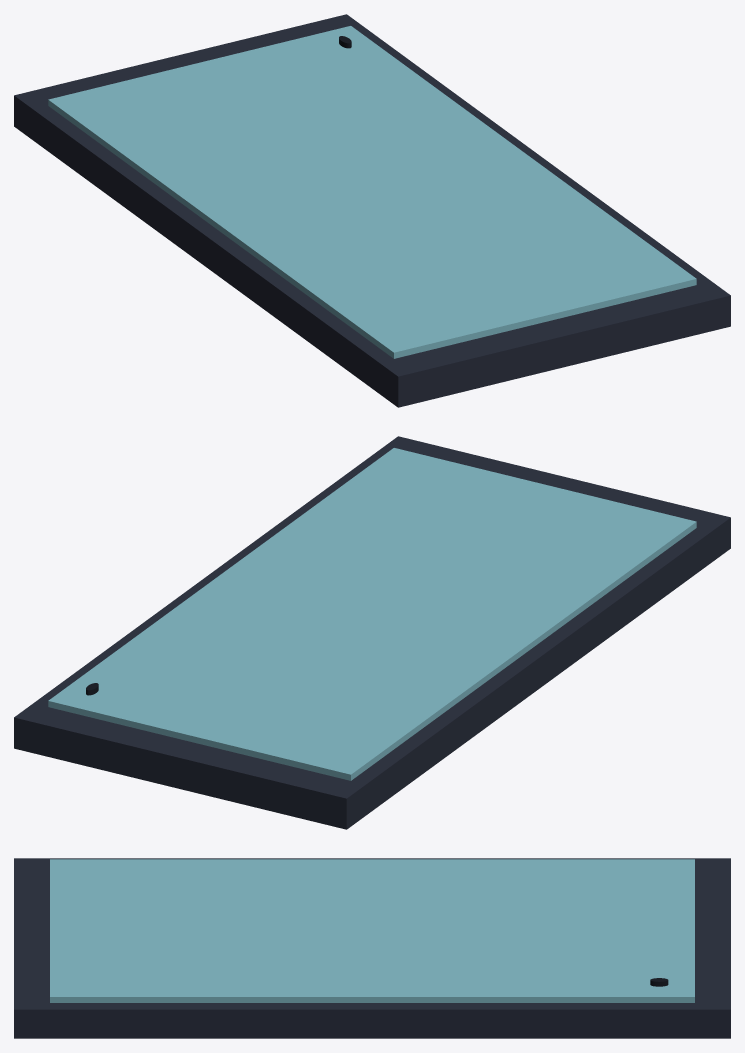
File: phone.glb
3 renders of one model, top to bottom at view 1: azimuth 30°, elevation 25°; view 2: azimuth 150°, elevation 25°; view 3: azimuth 270°, elevation 25°, orthographic. The views are drawn at different scales.
Visible parts, largest first — view 1: phone; view 2: phone; view 3: phone.
Boxes of the visible parts, <box> form: phone: <box>14,14,730,407</box>; phone: <box>14,436,730,829</box>; phone: <box>14,858,730,1038</box>.
Size of the model in its own units: 8 by 1 by 16.
